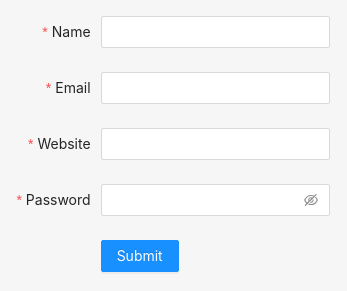
it: RegistrationForm › all fields are required
Click the button "Submit" at (140, 256), box top-left (101, 240), bottom-right (179, 272)
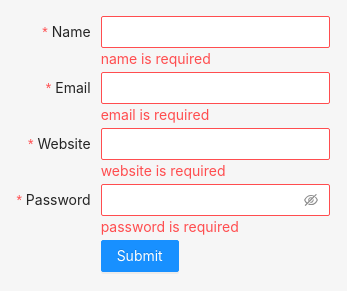
expect the text "name is required" is shown: met, box top-left (101, 50), bottom-right (211, 67)
expect the text "email is required" is shown: met, box top-left (101, 106), bottom-right (209, 123)
expect the text "password is required" is shown: met, box top-left (101, 218), bottom-right (239, 235)
